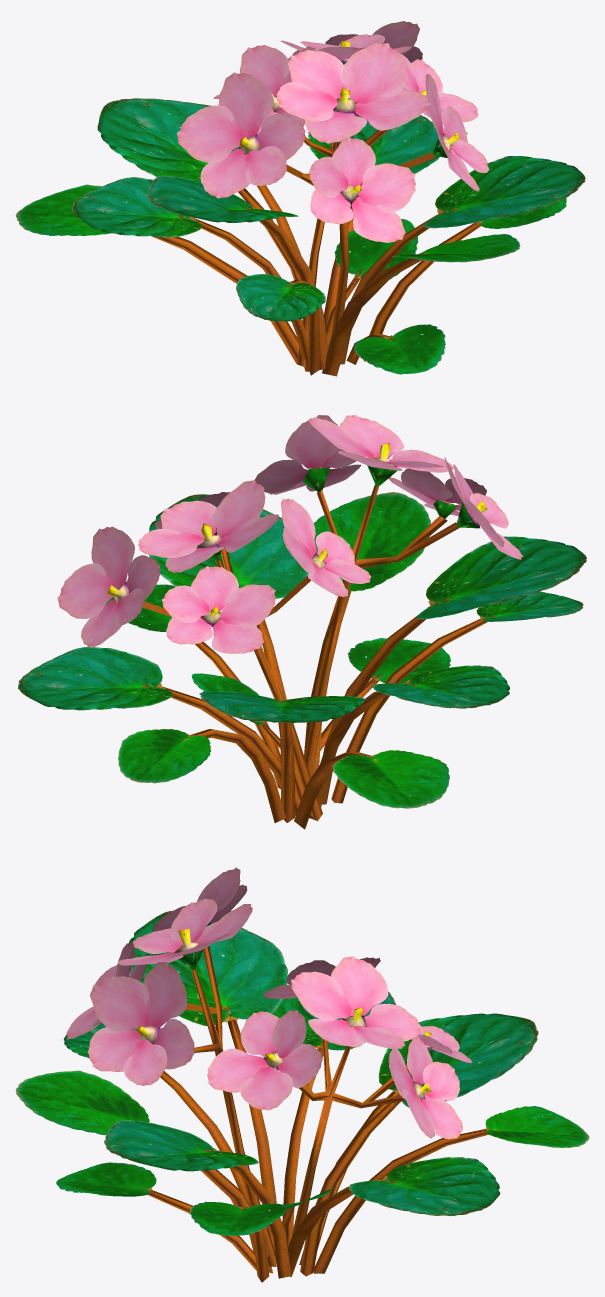
File: Saintpaulia1B.fbx
3 renders of one model, top to bottom at view 1: azimuth 30°, elevation 25°; view 2: azimuth 150°, elevation 25°; view 3: azimuth 270°, elevation 25°, orthographic. The views are drawn at different scales.
Parts seen in each view (by area): view 1: Sainpaulia1B_LOD0; view 2: Sainpaulia1B_LOD0; view 3: Sainpaulia1B_LOD0.
Boxes of the visible parts, <box> form: Sainpaulia1B_LOD0: <box>15,21,585,376</box>; Sainpaulia1B_LOD0: <box>17,415,586,829</box>; Sainpaulia1B_LOD0: <box>15,867,589,1282</box>.
Size of what is drawn, in the model's own units: 56.25 by 43.13 by 62.33.
